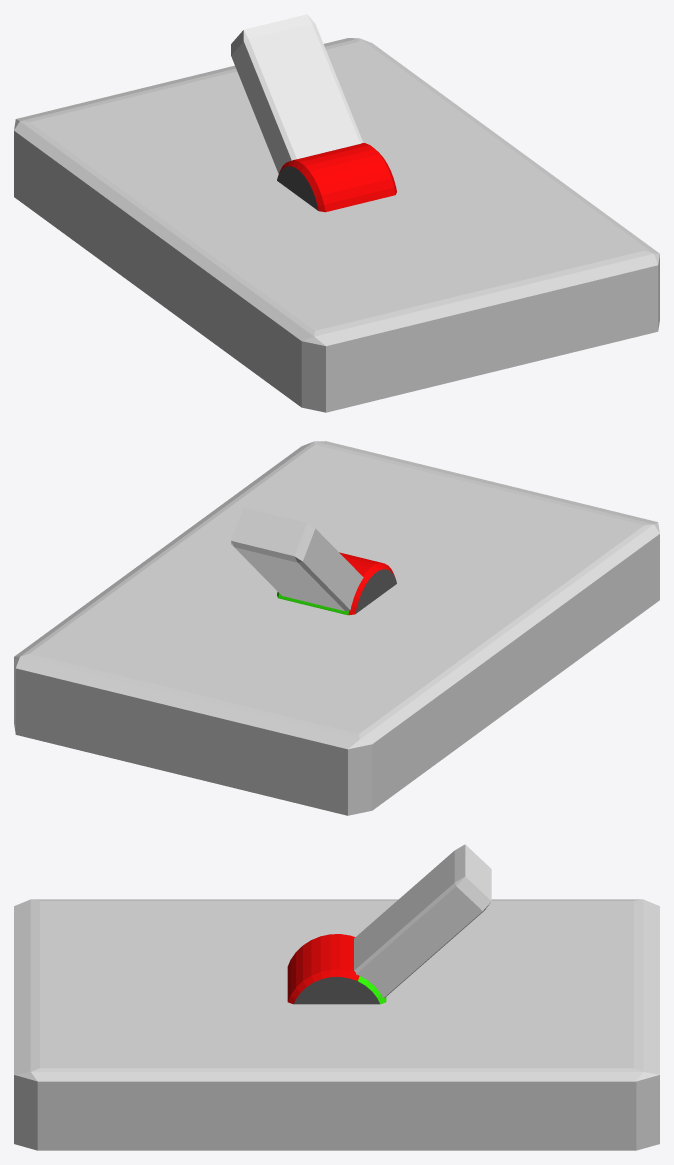
File: switch.fbx
3 views of the same model, one above another, from view 1: azimuth 30°, elevation 25°; view 2: azimuth 150°, elevation 25°; view 3: azimuth 270°, elevation 25° (orthographic). The views are drawn at different scales.
Parts seen in each view (by area): view 1: Cube, Cube.001, Cylinder; view 2: Cube, Cube.001, Cylinder; view 3: Cube, Cube.001, Cylinder.
Boxes of the visible parts, left/top/right/bottom form: Cube: left=14, top=38, right=659, bottom=412; Cube.001: left=231, top=14, right=363, bottom=173; Cylinder: left=277, top=143, right=396, bottom=212; Cube: left=14, top=441, right=659, bottom=815; Cube.001: left=231, top=507, right=363, bottom=611; Cylinder: left=277, top=552, right=396, bottom=615; Cube: left=14, top=899, right=659, bottom=1150; Cube.001: left=354, top=844, right=491, bottom=998; Cylinder: left=287, top=934, right=386, bottom=1004.
Size of the model in its own units: 0.2 by 0.1036 by 0.3.
